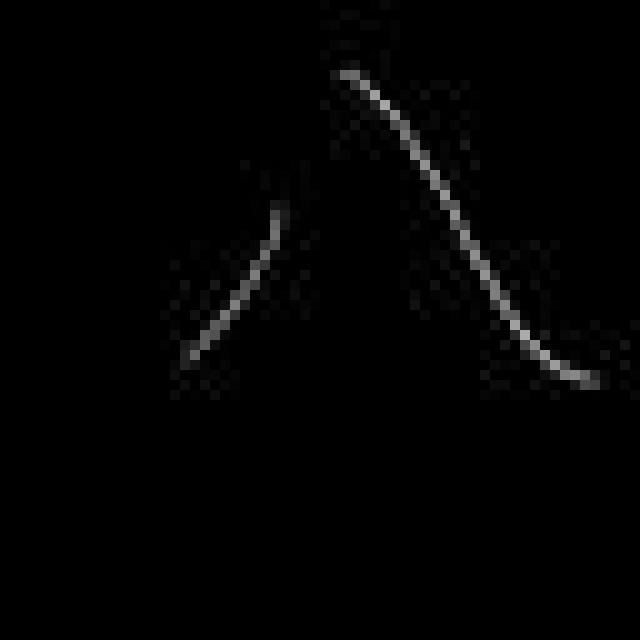8 -eight-: (168, 51, 614, 406)
